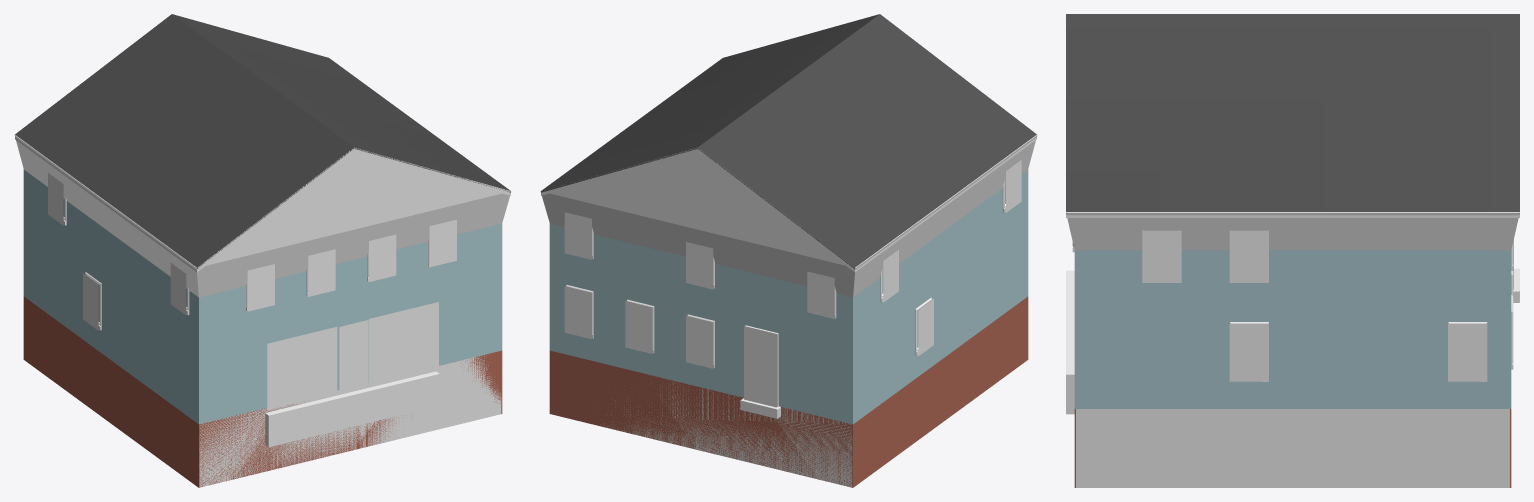
File: eca_bld_shop_town_c.dae
3 renders of one model, left to right at view 1: azimuth 30°, elevation 25°; view 2: azimuth 150°, elevation 25°; view 3: azimuth 270°, elevation 25°, orthographic. The views are drawn at different scales.
Parts seen in each view (by area): view 1: eca_bld_shop_town_c_a550, eca_bld_shop_town_c_a100, Colmesh-1; view 2: eca_bld_shop_town_c_a550, eca_bld_shop_town_c_a100, Colmesh-1; view 3: eca_bld_shop_town_c_a550, Colmesh-1, eca_bld_shop_town_c_a100.
Boxes of the visible parts, x1,y1,x2,y2 form: eca_bld_shop_town_c_a550: (15, 14, 510, 487); eca_bld_shop_town_c_a100: (15, 138, 510, 487); Colmesh-1: (14, 60, 511, 447); eca_bld_shop_town_c_a550: (541, 14, 1036, 487); eca_bld_shop_town_c_a100: (541, 140, 1034, 487); Colmesh-1: (540, 60, 1037, 297); eca_bld_shop_town_c_a550: (1066, 14, 1519, 487); Colmesh-1: (1066, 212, 1519, 414); eca_bld_shop_town_c_a100: (1067, 214, 1519, 487).
Bounding box in the file's own units: 10.38 × 10.4 × 9.65.
